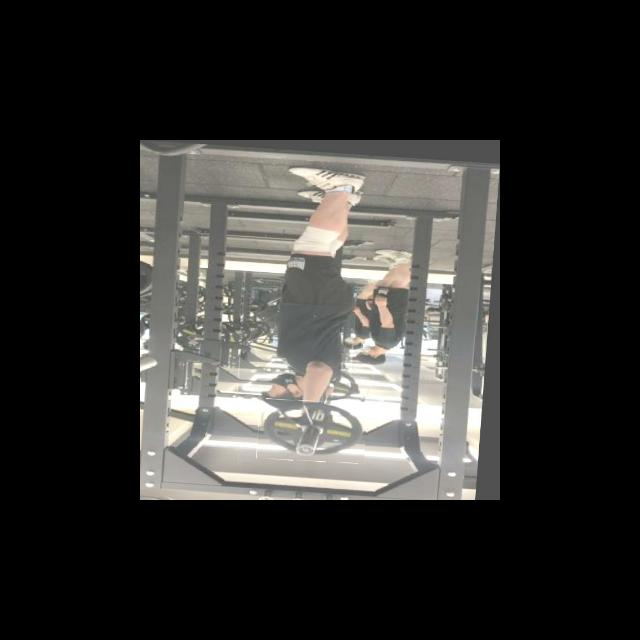barbell: (261, 395, 372, 461)
